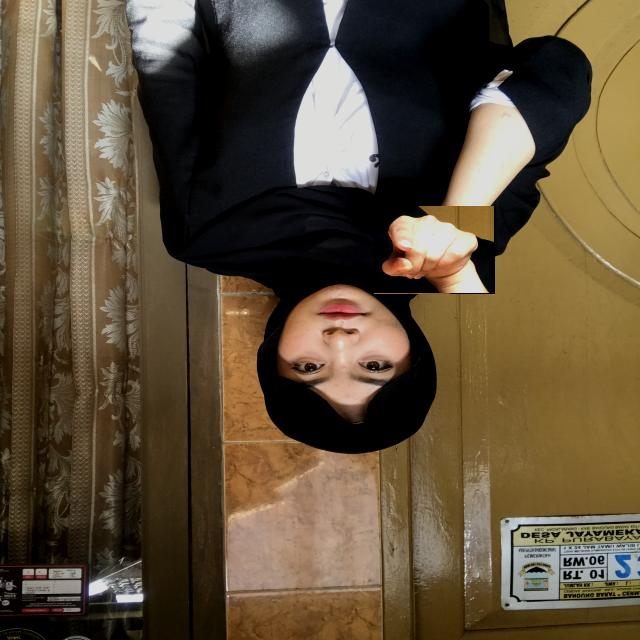kamu: (374, 206, 495, 294)
